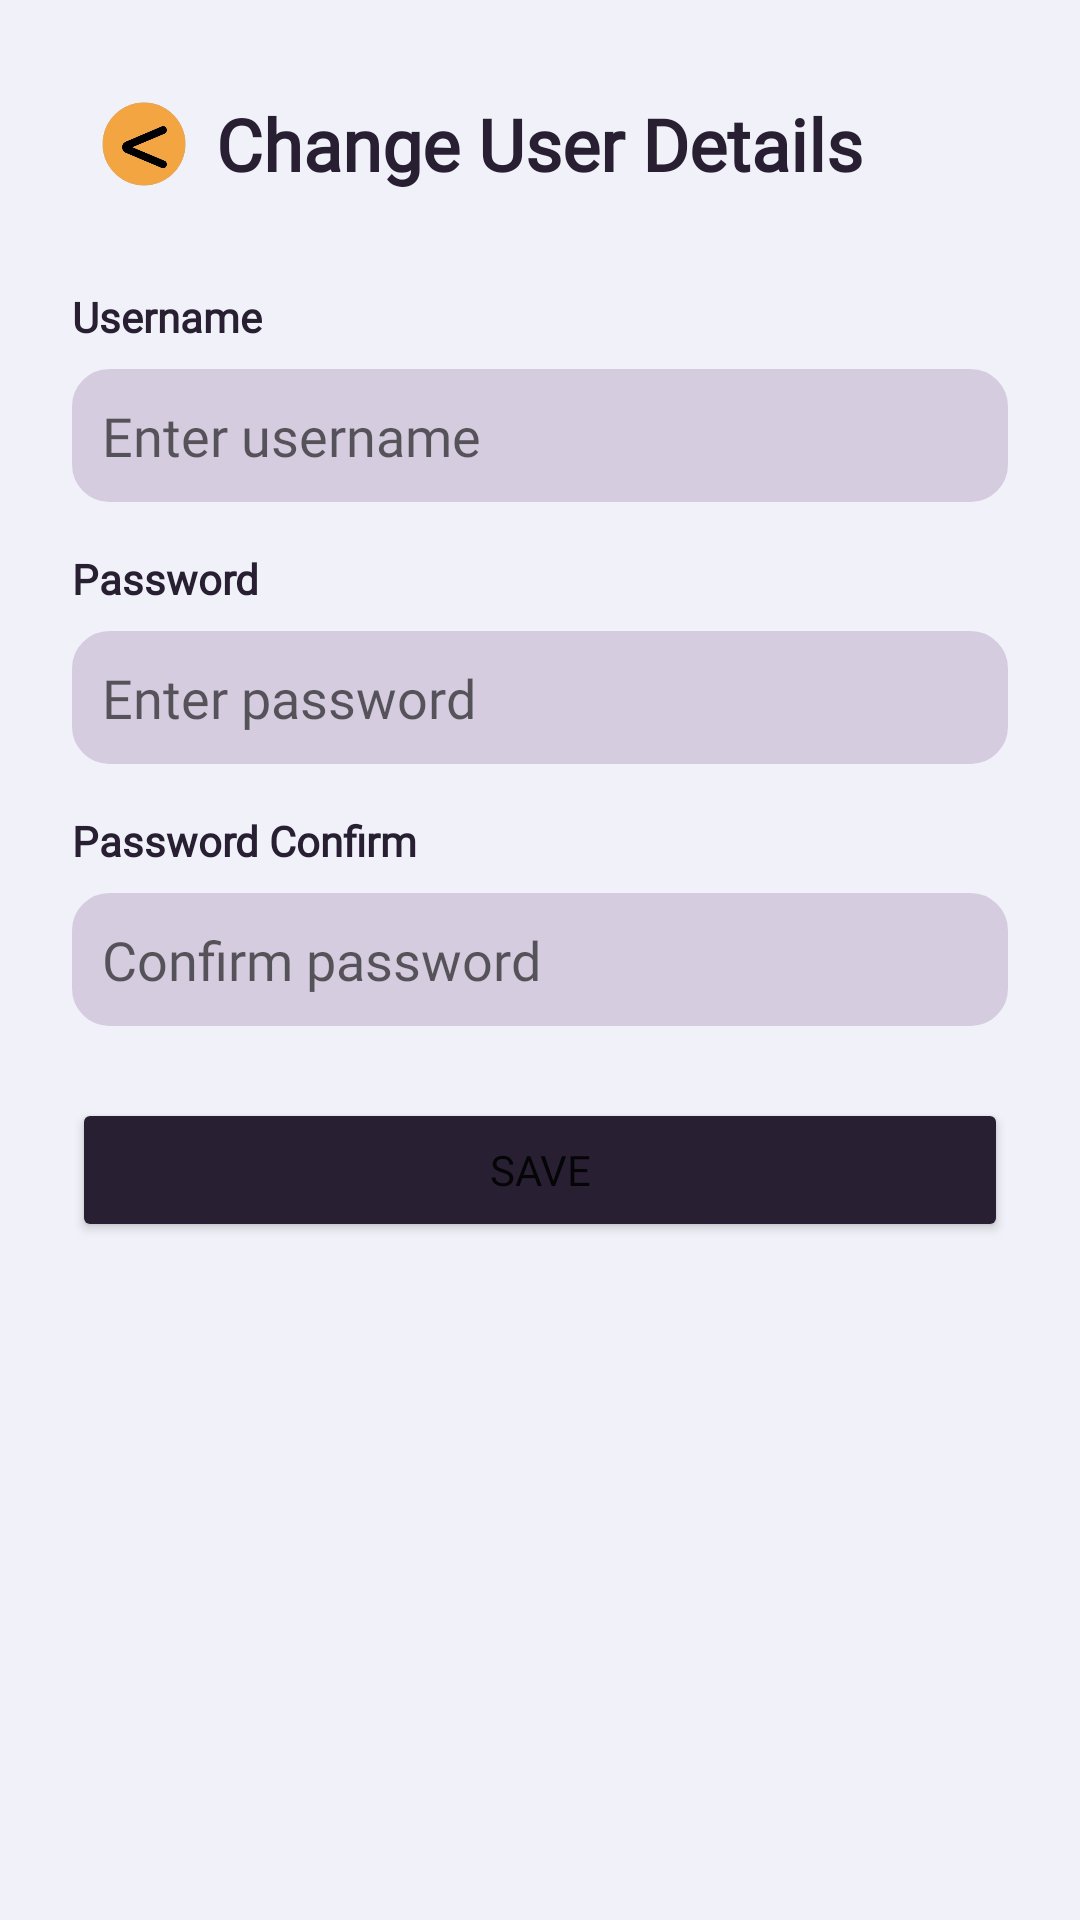

Locate icon controls on the screen. Image size 1080px x 1920px, boxes as (x1=x1, y1=y1, x2=x2, y2=y2).
Back Button: (x1=102, y1=102, x2=186, y2=186)
